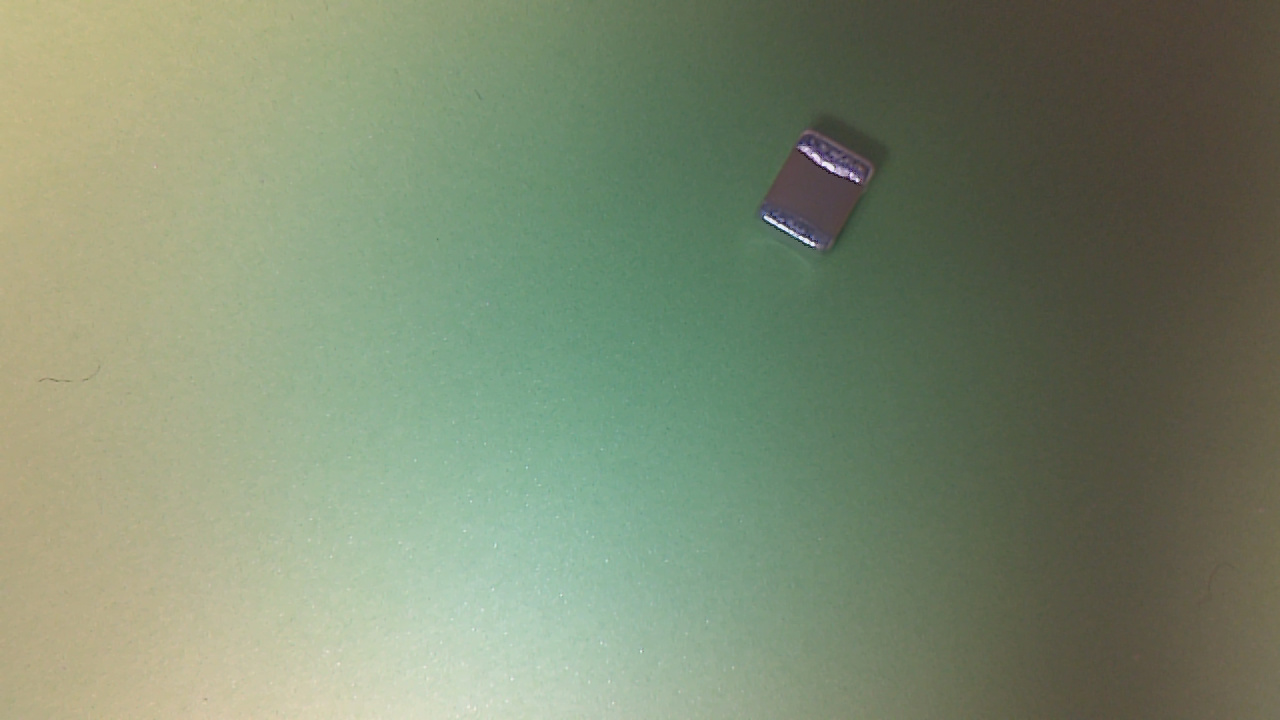Condensator: (759, 130, 887, 259)
